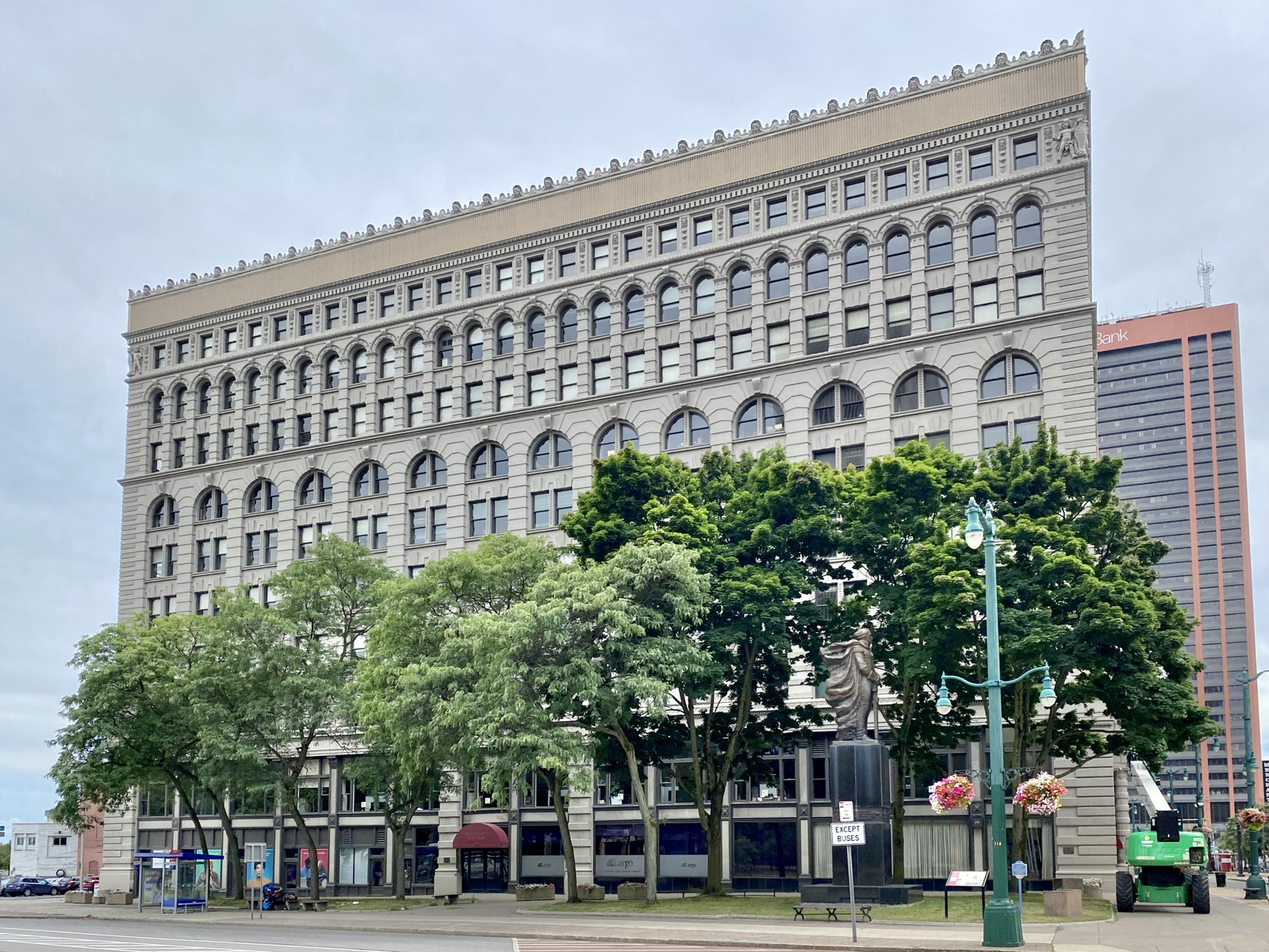fachada: (114, 37, 1097, 904), (1105, 304, 1269, 838)
poste: (912, 460, 1081, 952)
